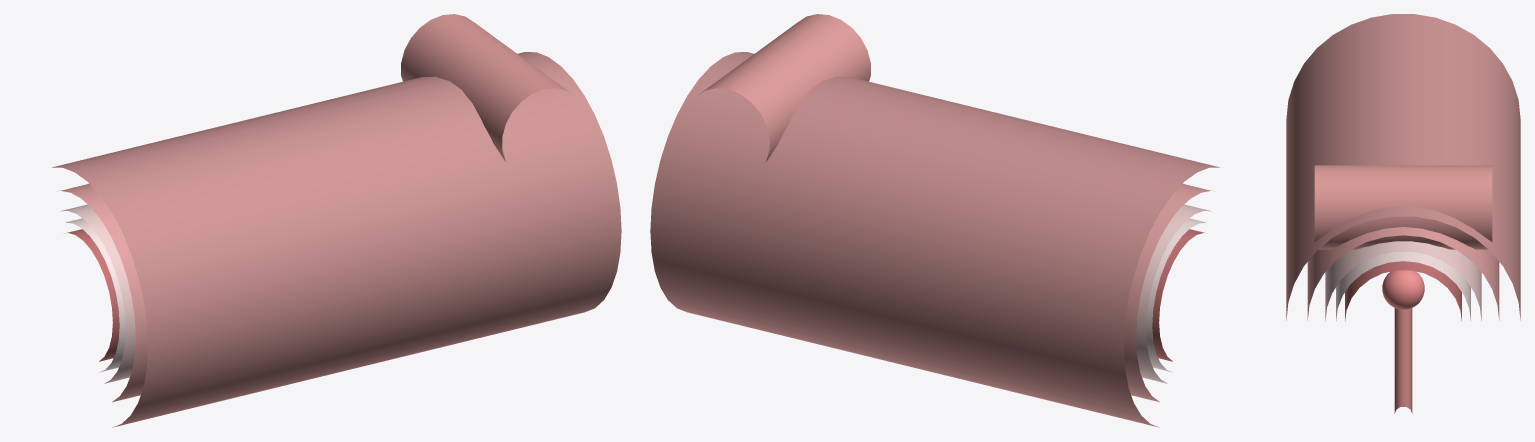
Rendered from blood-vessel.glb.
3 renders of one model, left to right at view 1: azimuth 30°, elevation 25°; view 2: azimuth 150°, elevation 25°; view 3: azimuth 270°, elevation 25°, orthographic. The views are drawn at different scales.
Parts seen in each view (by area): view 1: adventitia, branch_vessel, smooth_muscle_layer, elastic_layer, endothelium, lumen; view 2: adventitia, branch_vessel, smooth_muscle_layer, elastic_layer, endothelium, lumen; view 3: adventitia, branch_vessel, smooth_muscle_layer, elastic_layer, vasa_vasorum, endothelium, lumen, erythrocyte_4.
Boxes of the visible parts, x1,y1,x2,y2 form: adventitia: (52, 52, 621, 427); branch_vessel: (401, 14, 572, 163); smooth_muscle_layer: (60, 184, 147, 402); elastic_layer: (60, 204, 135, 383); endothelium: (65, 218, 125, 372); lumen: (67, 229, 119, 361); adventitia: (650, 52, 1219, 427); branch_vessel: (699, 14, 870, 163); smooth_muscle_layer: (1124, 184, 1211, 402); elastic_layer: (1136, 204, 1211, 383); endothelium: (1146, 218, 1206, 372); lumen: (1152, 229, 1204, 361); adventitia: (1286, 14, 1520, 320); branch_vessel: (1314, 165, 1492, 249); smooth_muscle_layer: (1307, 227, 1499, 320); elastic_layer: (1325, 241, 1481, 320); vasa_vasorum: (1394, 308, 1412, 413); endothelium: (1336, 252, 1470, 320); lumen: (1345, 261, 1461, 320); erythrocyte_4: (1382, 270, 1424, 309).
Size of the model in its own units: 1.63 by 0.8552 by 0.78.
